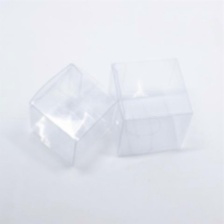plastic_box: (23, 56, 123, 174), (104, 52, 197, 160)
